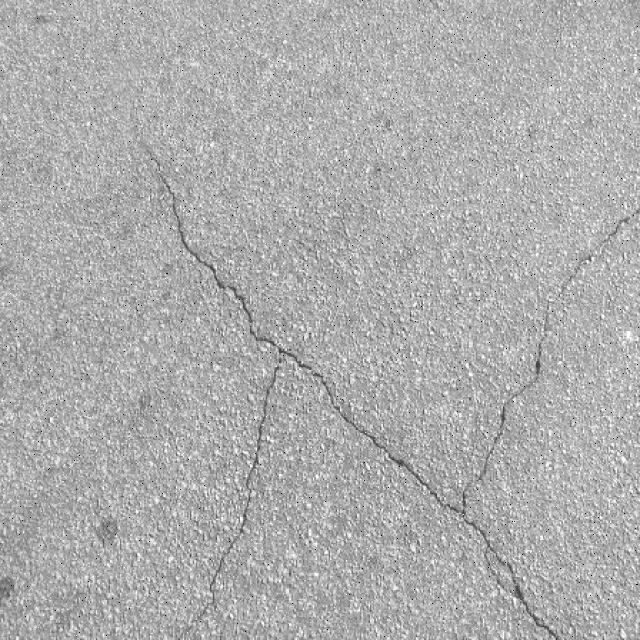Crack: (152, 156, 640, 639)
